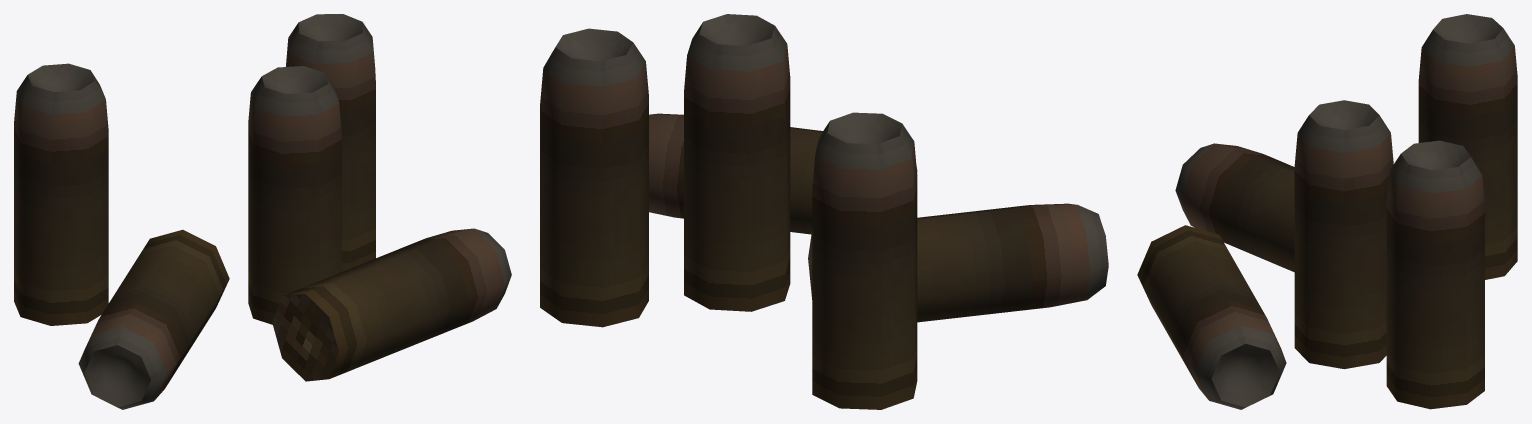
File: ammo_pistol_loose_5pcs_mp_2.glb
The picture shows the model from 3 angles, left to right: view 1: azimuth 30°, elevation 25°; view 2: azimuth 150°, elevation 25°; view 3: azimuth 270°, elevation 25°; orthographic projection. The views are drawn at different scales.
Parts seen in each view (by area): view 1: ammo_pistol_loose_5pcs_mp_2; view 2: ammo_pistol_loose_5pcs_mp_2; view 3: ammo_pistol_loose_5pcs_mp_2.
Part boxes in pixels (x1,y1,x2,y2): ammo_pistol_loose_5pcs_mp_2: (14,14,511,409); ammo_pistol_loose_5pcs_mp_2: (540,14,1108,409); ammo_pistol_loose_5pcs_mp_2: (1137,14,1517,409).
Size of the model in its own units: 0.0631 by 0.0327 by 0.0484.
1 material, 1 textured.
